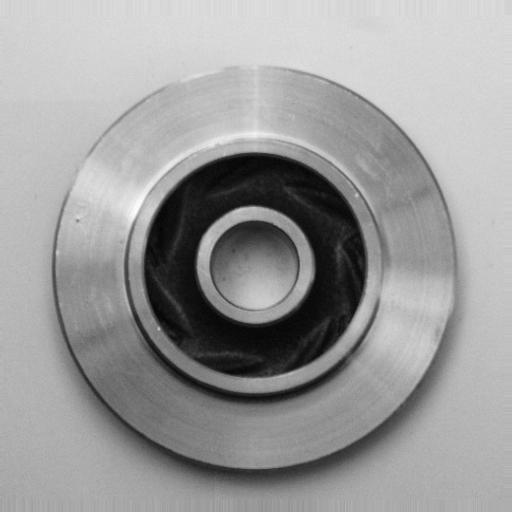unpolished_casting: (53, 60, 462, 479)
